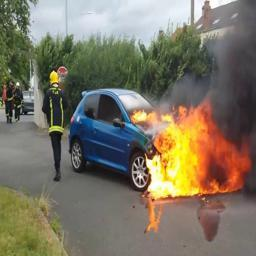fire: (145, 91, 252, 201), (132, 110, 157, 123)
